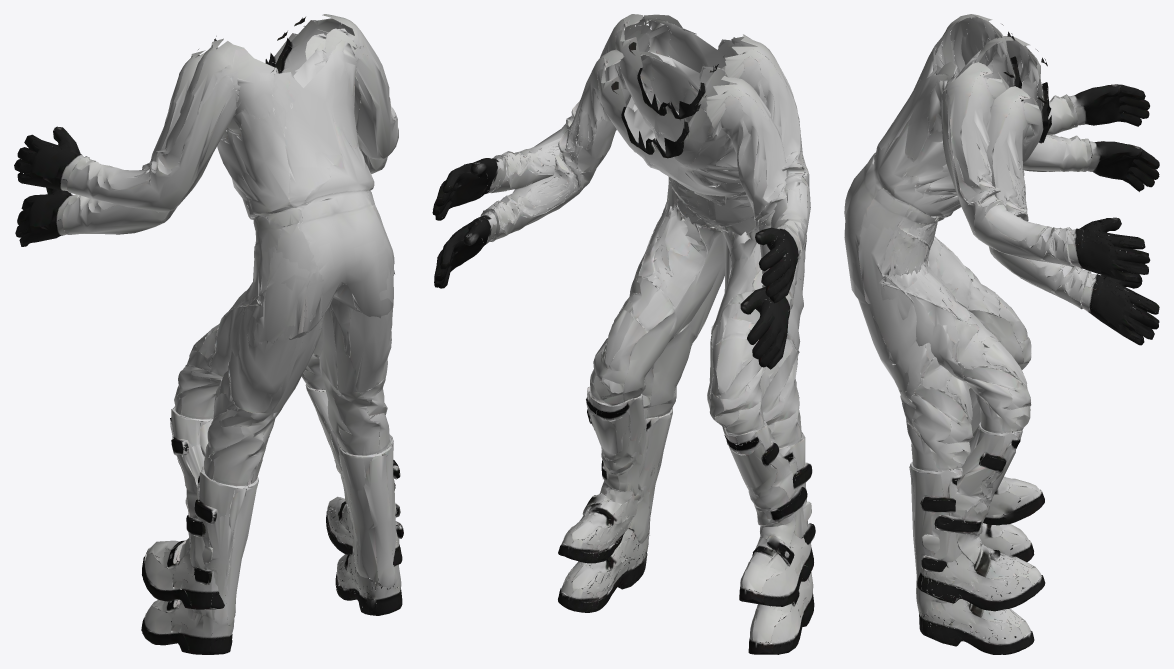
File: rider_poses.glb
3 renders of one model, left to right at view 1: azimuth 30°, elevation 25°; view 2: azimuth 150°, elevation 25°; view 3: azimuth 270°, elevation 25°, orthographic. The views are drawn at different scales.
Parts seen in each view (by area): view 1: rider_sit, rider_stand; view 2: rider_sit, rider_stand; view 3: rider_sit, rider_stand.
Part boxes in pixels (<box>): rider_sit: <box>14,14,402,609</box>; rider_stand: <box>15,25,403,654</box>; rider_sit: <box>432,14,813,606</box>; rider_stand: <box>434,49,815,654</box>; rider_sit: <box>844,14,1150,611</box>; rider_stand: <box>846,36,1159,654</box>.
Bounding box in the file's own units: 0.9046 × 1.46 × 0.7349.
1 material, 1 textured.
